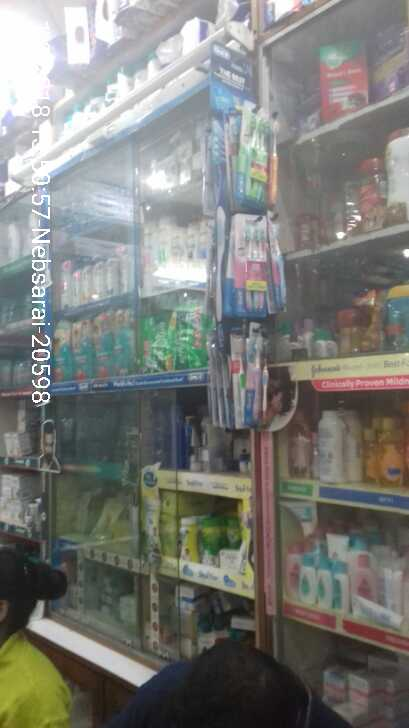oralb: (233, 100, 284, 198), (228, 326, 270, 430), (230, 212, 264, 316), (264, 213, 294, 313)
